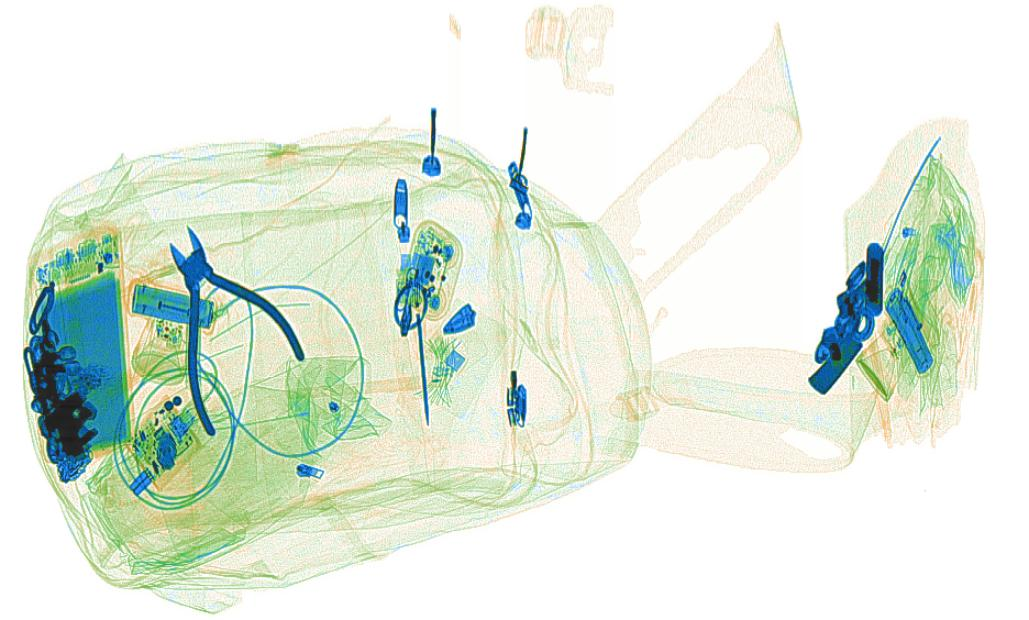battery: (880, 285, 944, 377), (130, 279, 215, 332)
